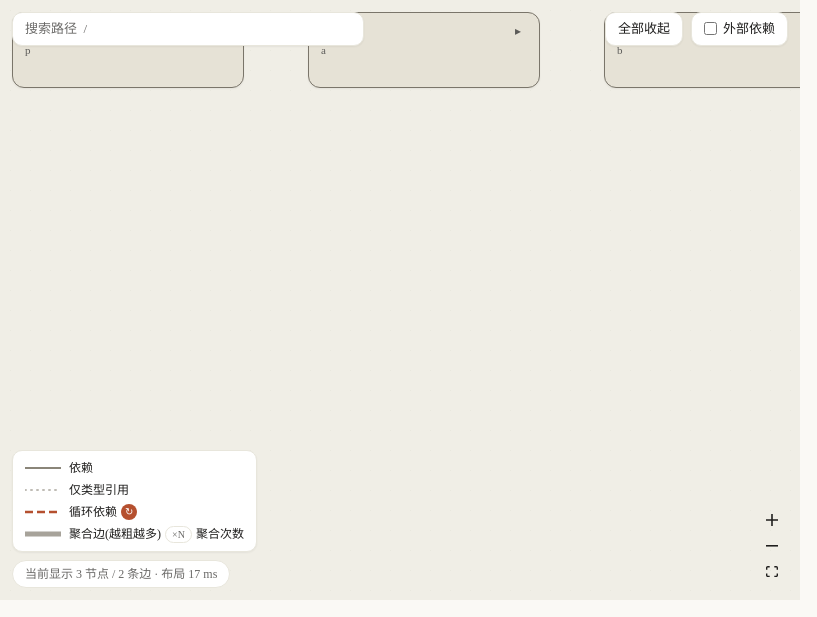
Test case: <GraphView> 状态条窄屏(T-222e,#49 评审) › 选中后「Esc 取消」只在 ≥768px 显示;状态条限宽并截断,给右下缩放按钮让位
Click the element with test id "node-m:a" at x=424, y=50, box [308,12,540,88]
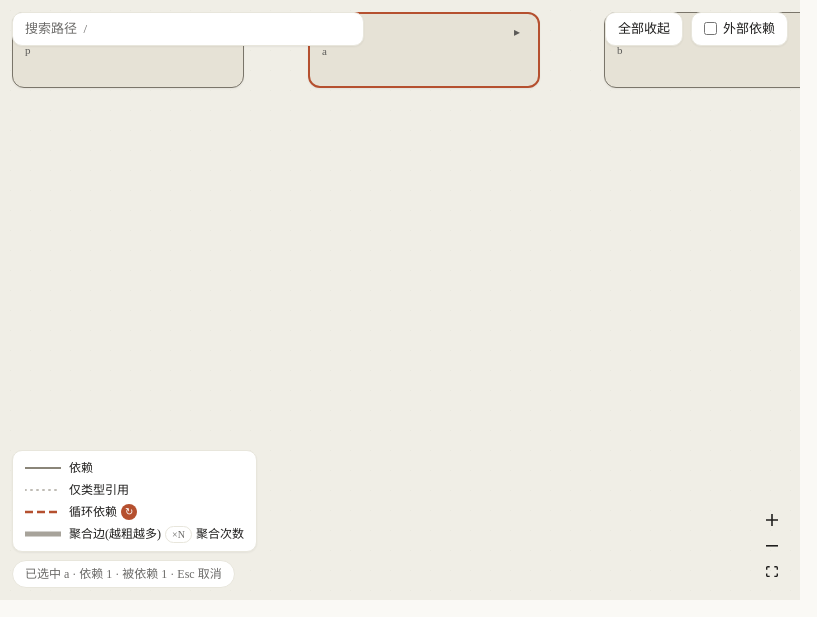
Check: the message with test id "graph-status" shows "已选中", box [25,567,64,581]
Check: the text with test id "esc-hint" shows "Esc 取消", box [170,567,222,581]
